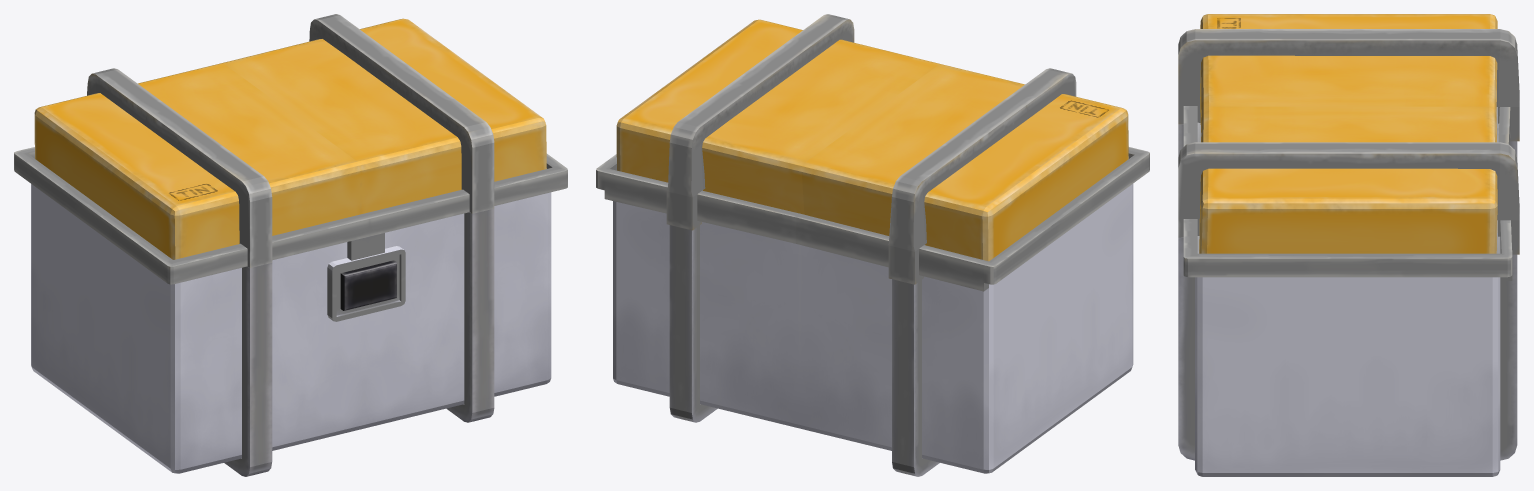
Rendered from storage_crate.glb.
3 renders of one model, left to right at view 1: azimuth 30°, elevation 25°; view 2: azimuth 150°, elevation 25°; view 3: azimuth 270°, elevation 25°, orthographic. The views are drawn at different scales.
Parts seen in each view (by area): view 1: StorageCrate, Lid; view 2: StorageCrate, Lid; view 3: Lid, StorageCrate.
Part boxes in pixels (left/top/right/bottom): StorageCrate: left=31, top=184, right=551, bottom=476; Lid: left=14, top=14, right=567, bottom=284; StorageCrate: left=613, top=184, right=1133, bottom=476; Lid: left=596, top=14, right=1149, bottom=291; Lid: left=1178, top=14, right=1519, bottom=280; StorageCrate: left=1178, top=107, right=1517, bottom=476.
Bounding box in the file's own units: 3.15 × 2.22 × 2.24.
Materials: 2 (2 with a texture image).
